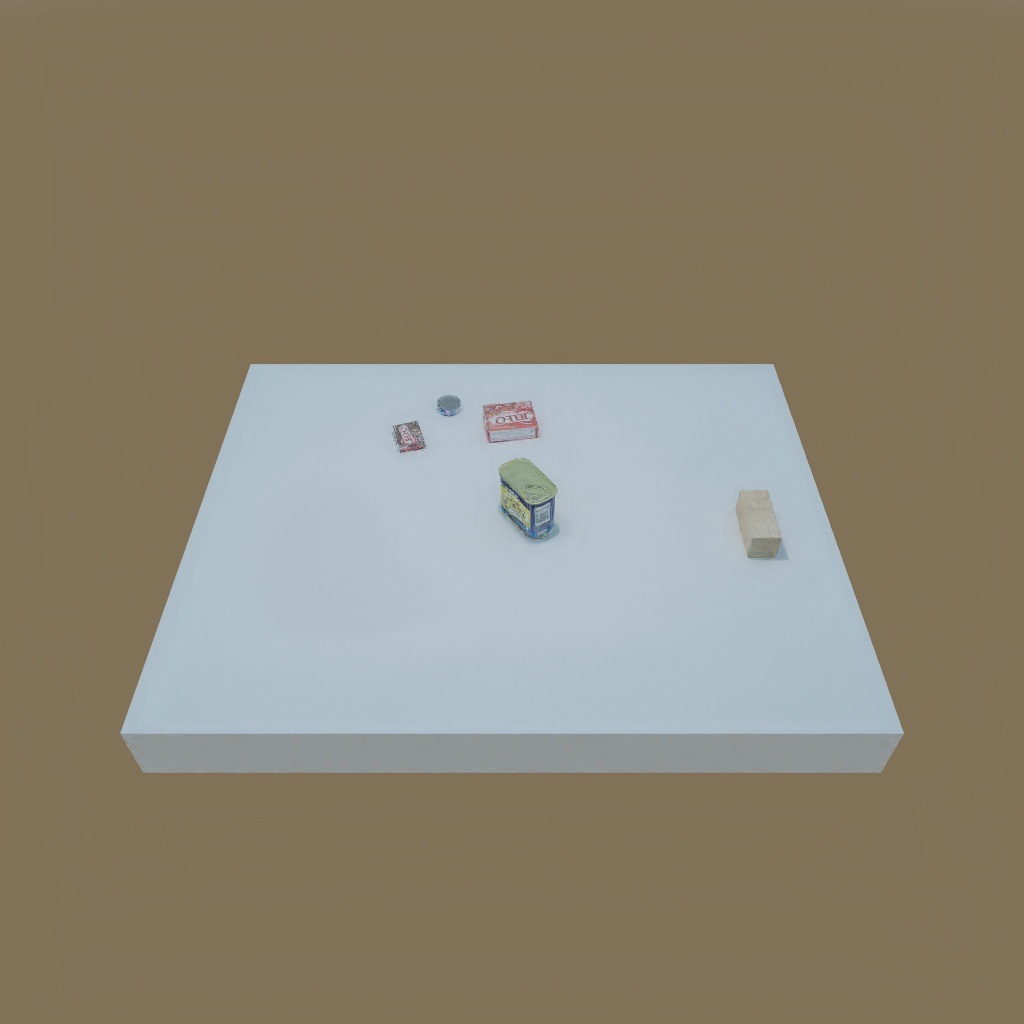gelatin_box: (480, 400, 540, 444)
potted_meat_can: (498, 459, 557, 542)
pudding_box: (389, 417, 429, 455)
wood_block: (734, 491, 781, 560)
